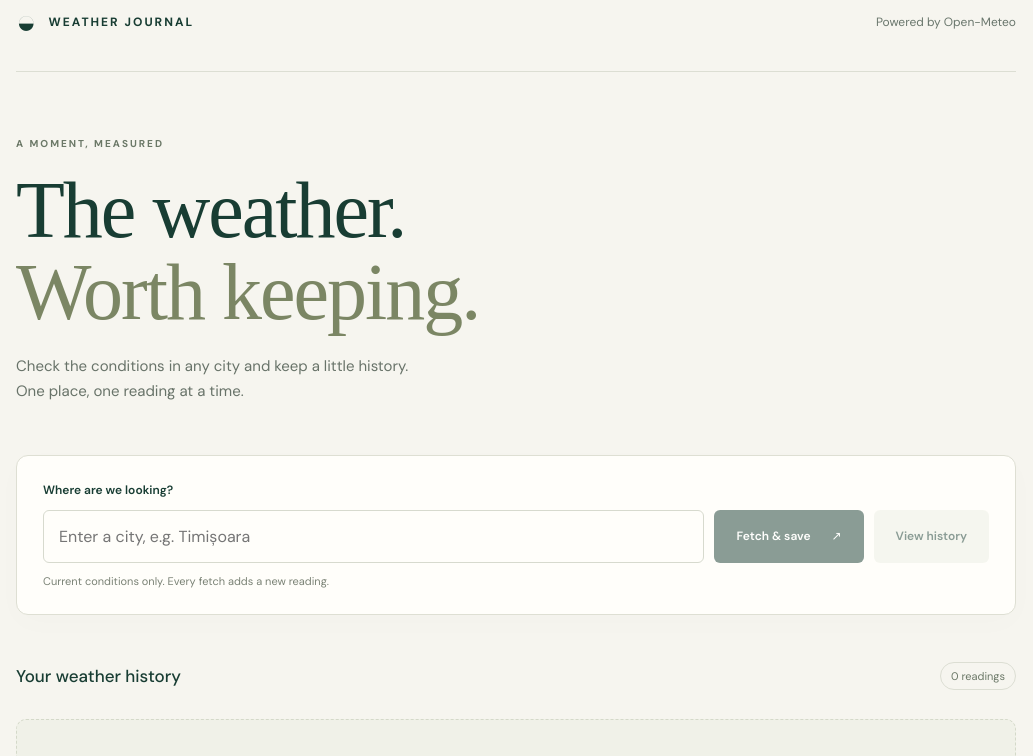
Test: shows provider errors and allows another attempt
Type "nowhere" into the field labelled "Where are we looking?".
click(374, 536); type("nowhere")  # box top-left (43, 510), bottom-right (704, 563)
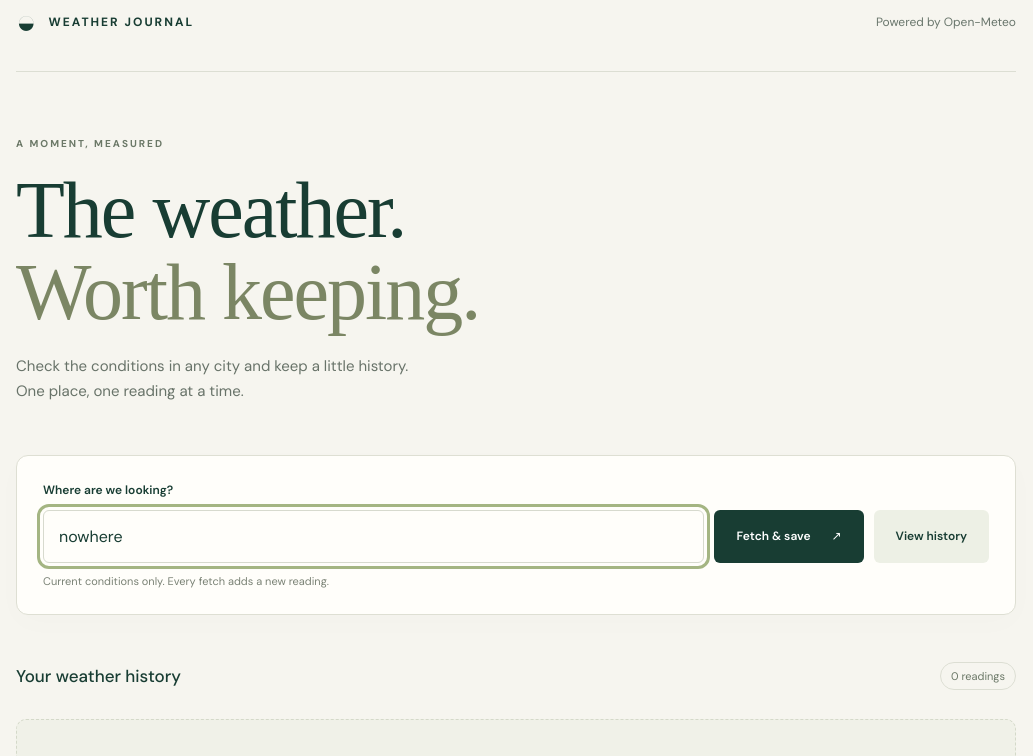
Click the button "Fetch & save ↗".
click(789, 536)  # box top-left (714, 510), bottom-right (864, 563)
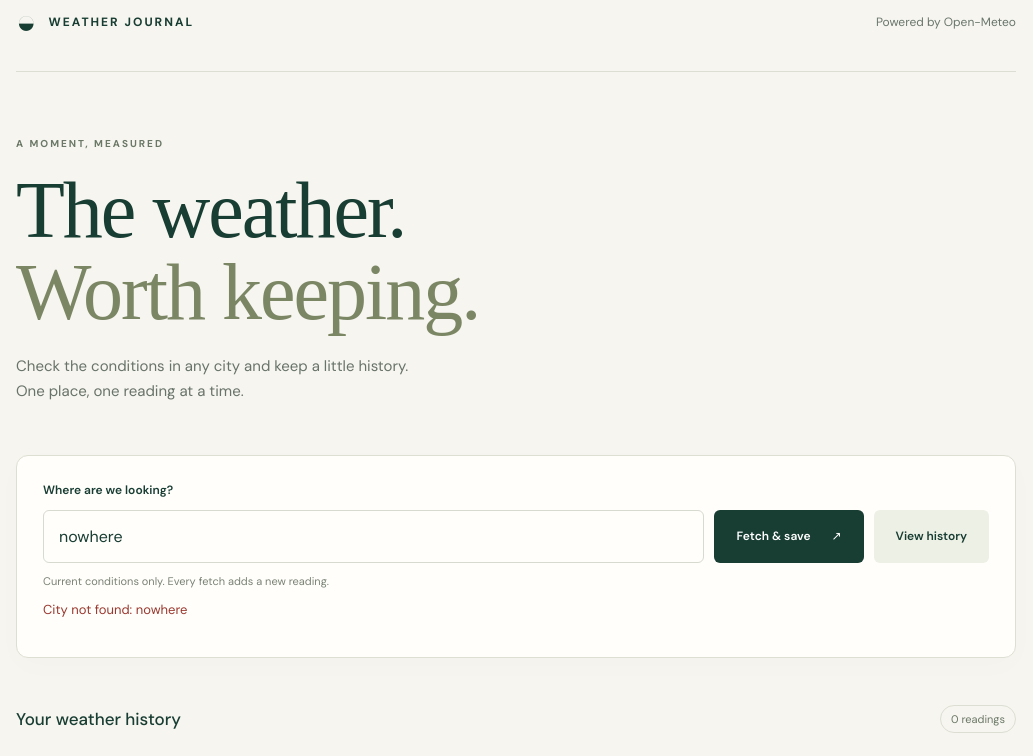
Expected: the button "Fetch & save ↗" is enabled, top-left (714, 510), bottom-right (864, 563)
Expected: the message reads "City not found: nowhere", top-left (43, 601), bottom-right (187, 618)
